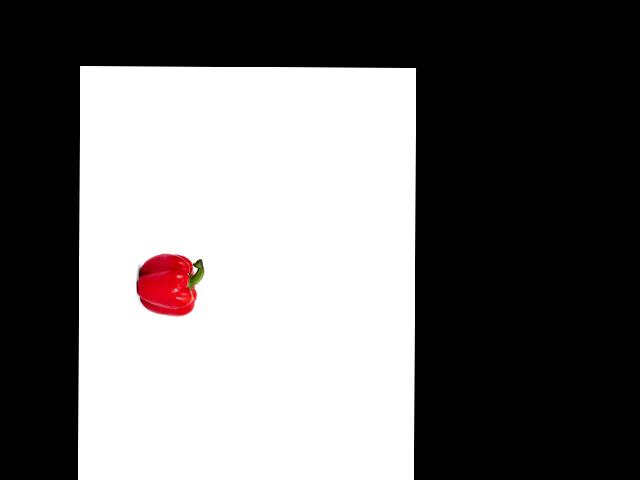bell_pepper: (137, 251, 205, 320)
